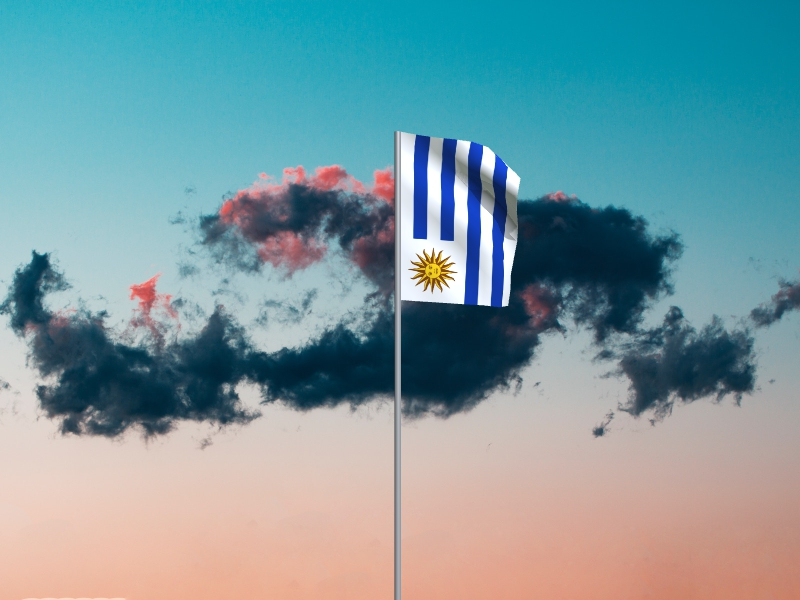uy: (401, 132, 522, 308)
